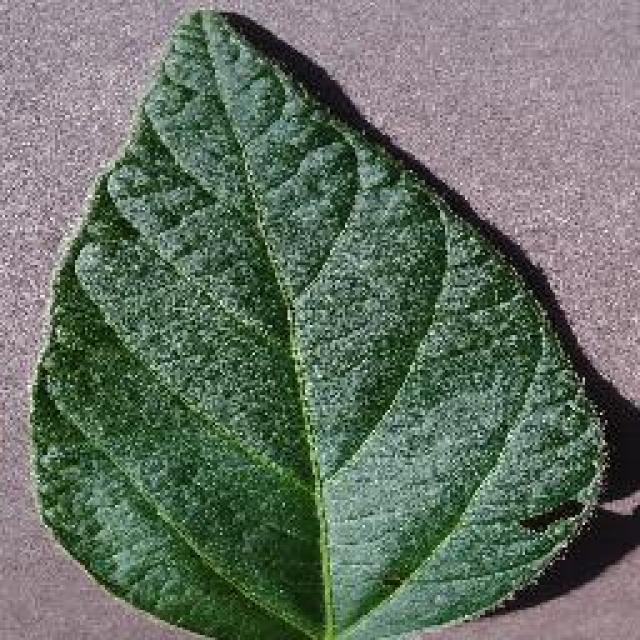Soy_healthy: (63, 46, 565, 590)
